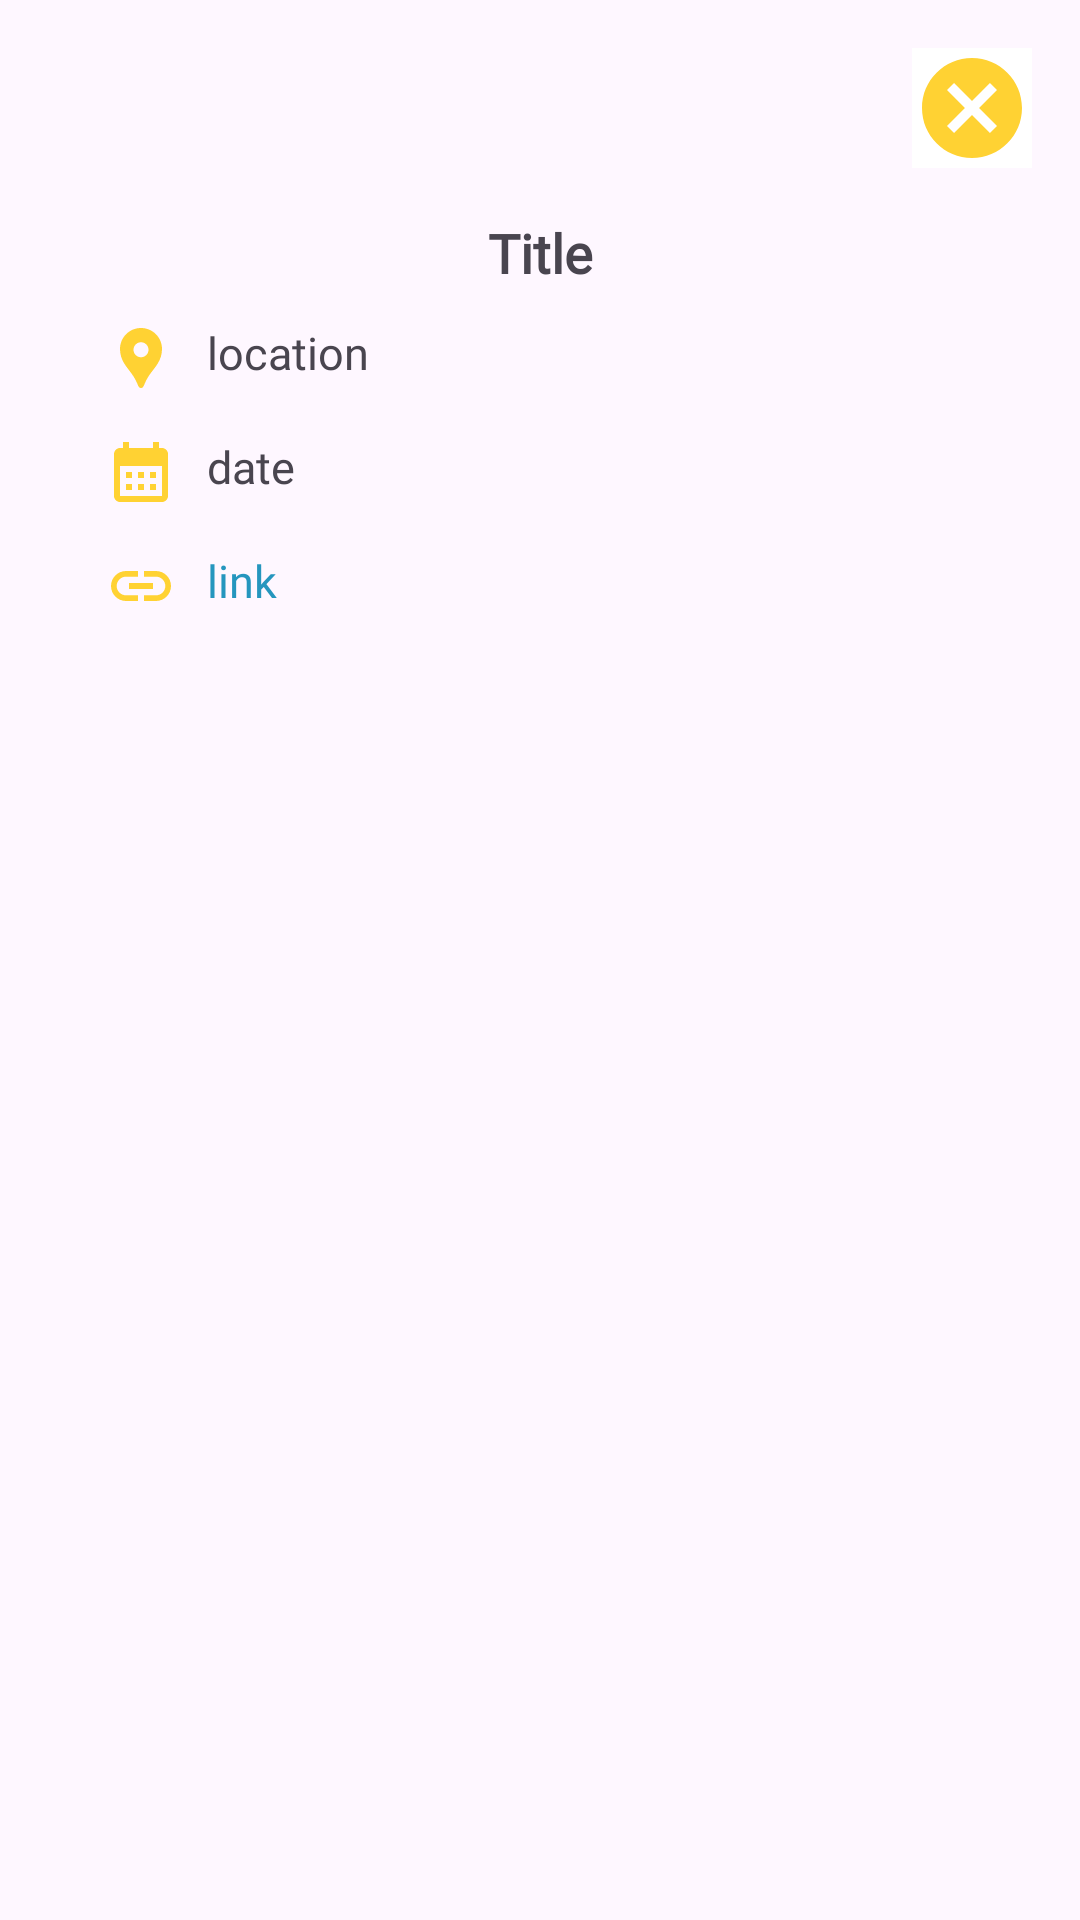

Icons on this 1080x1920 Android screen, each with its box as [left=x1, top=y1, right=x2, bottom=y2]:
Close Dialog: [left=922, top=58, right=1022, bottom=158]
